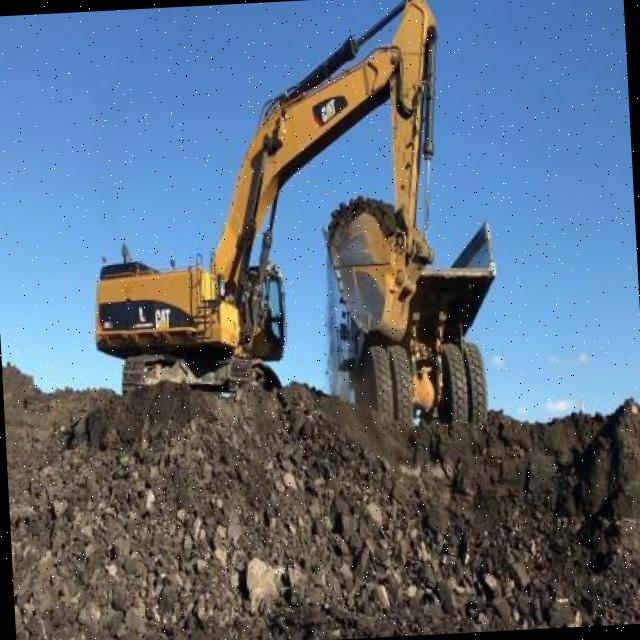Dump Truck: (314, 187, 506, 429)
Excavator: (75, 0, 457, 402)
